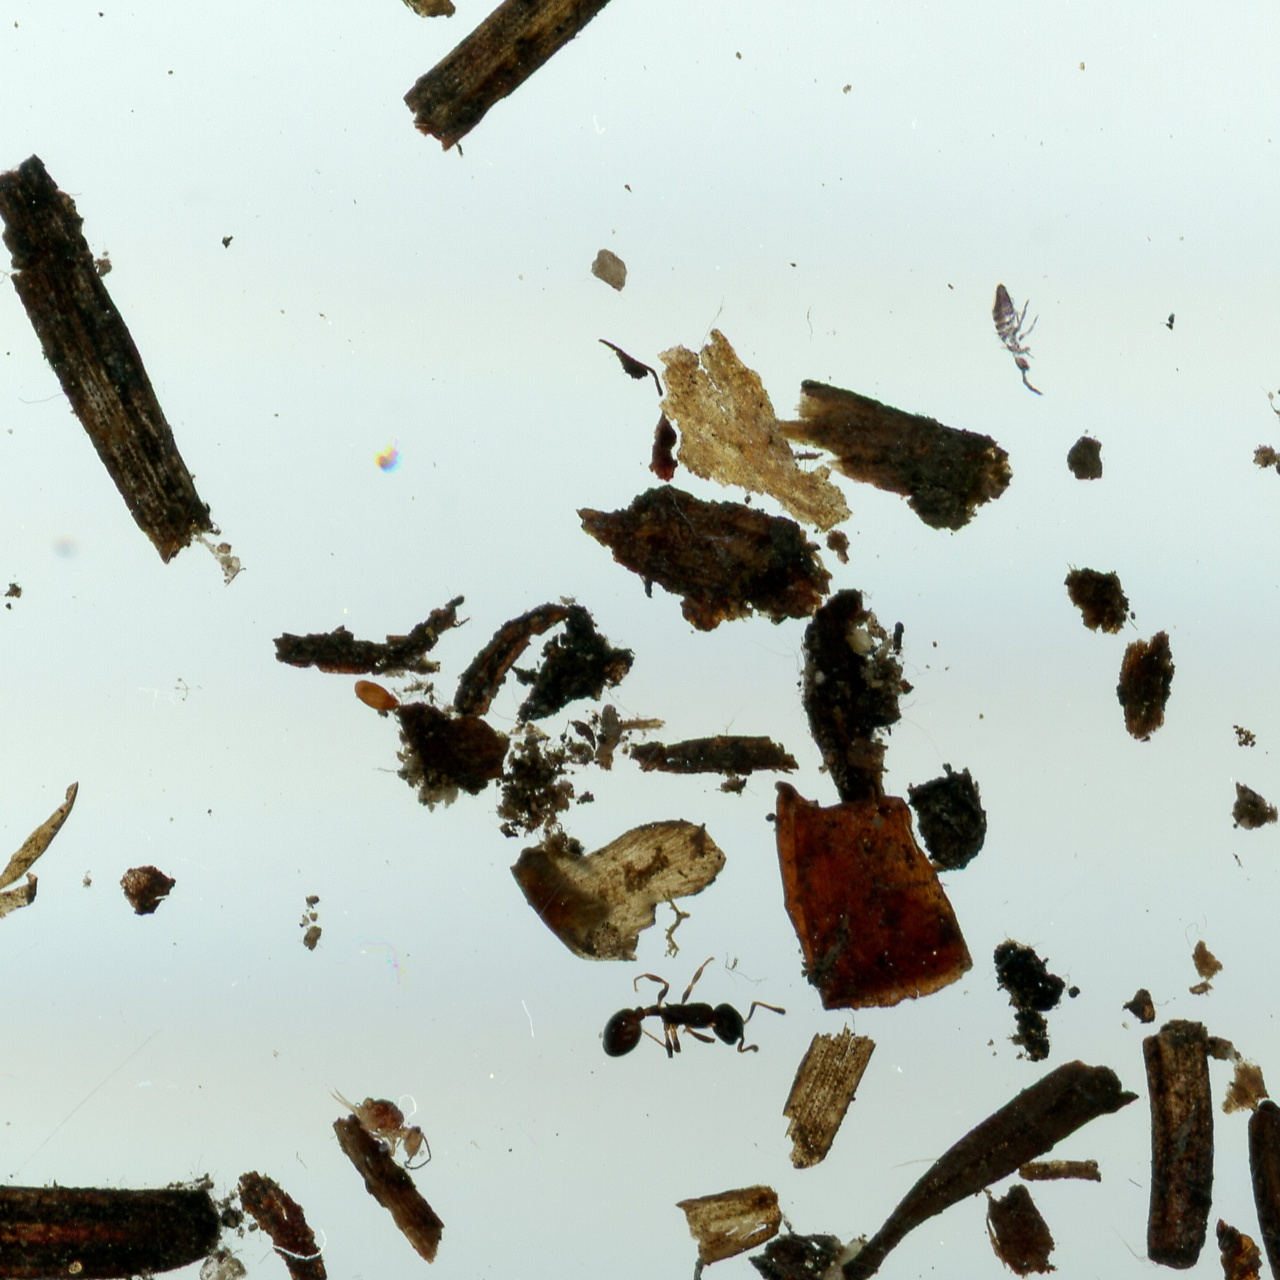arthropod: (600, 956, 788, 1061), (321, 1062, 448, 1184), (975, 272, 1065, 407), (1214, 1213, 1266, 1280)
